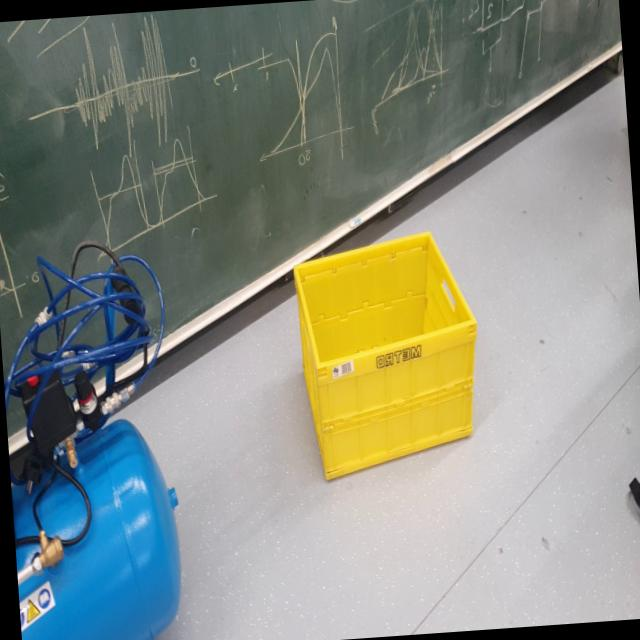box: (272, 208, 498, 525)
